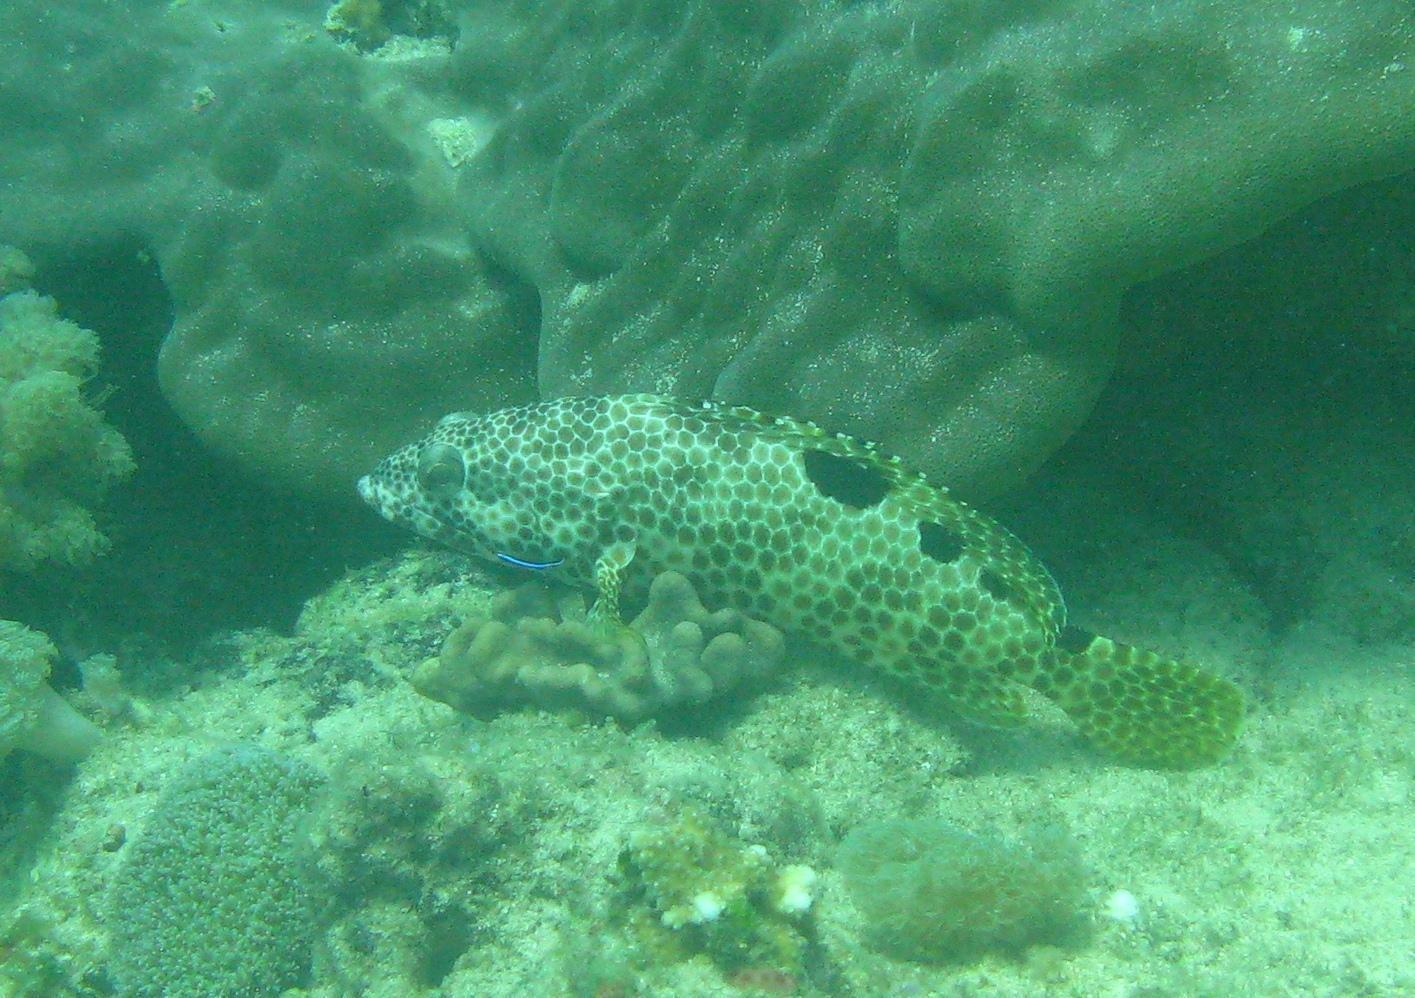Fish: (258, 305, 1271, 872)
